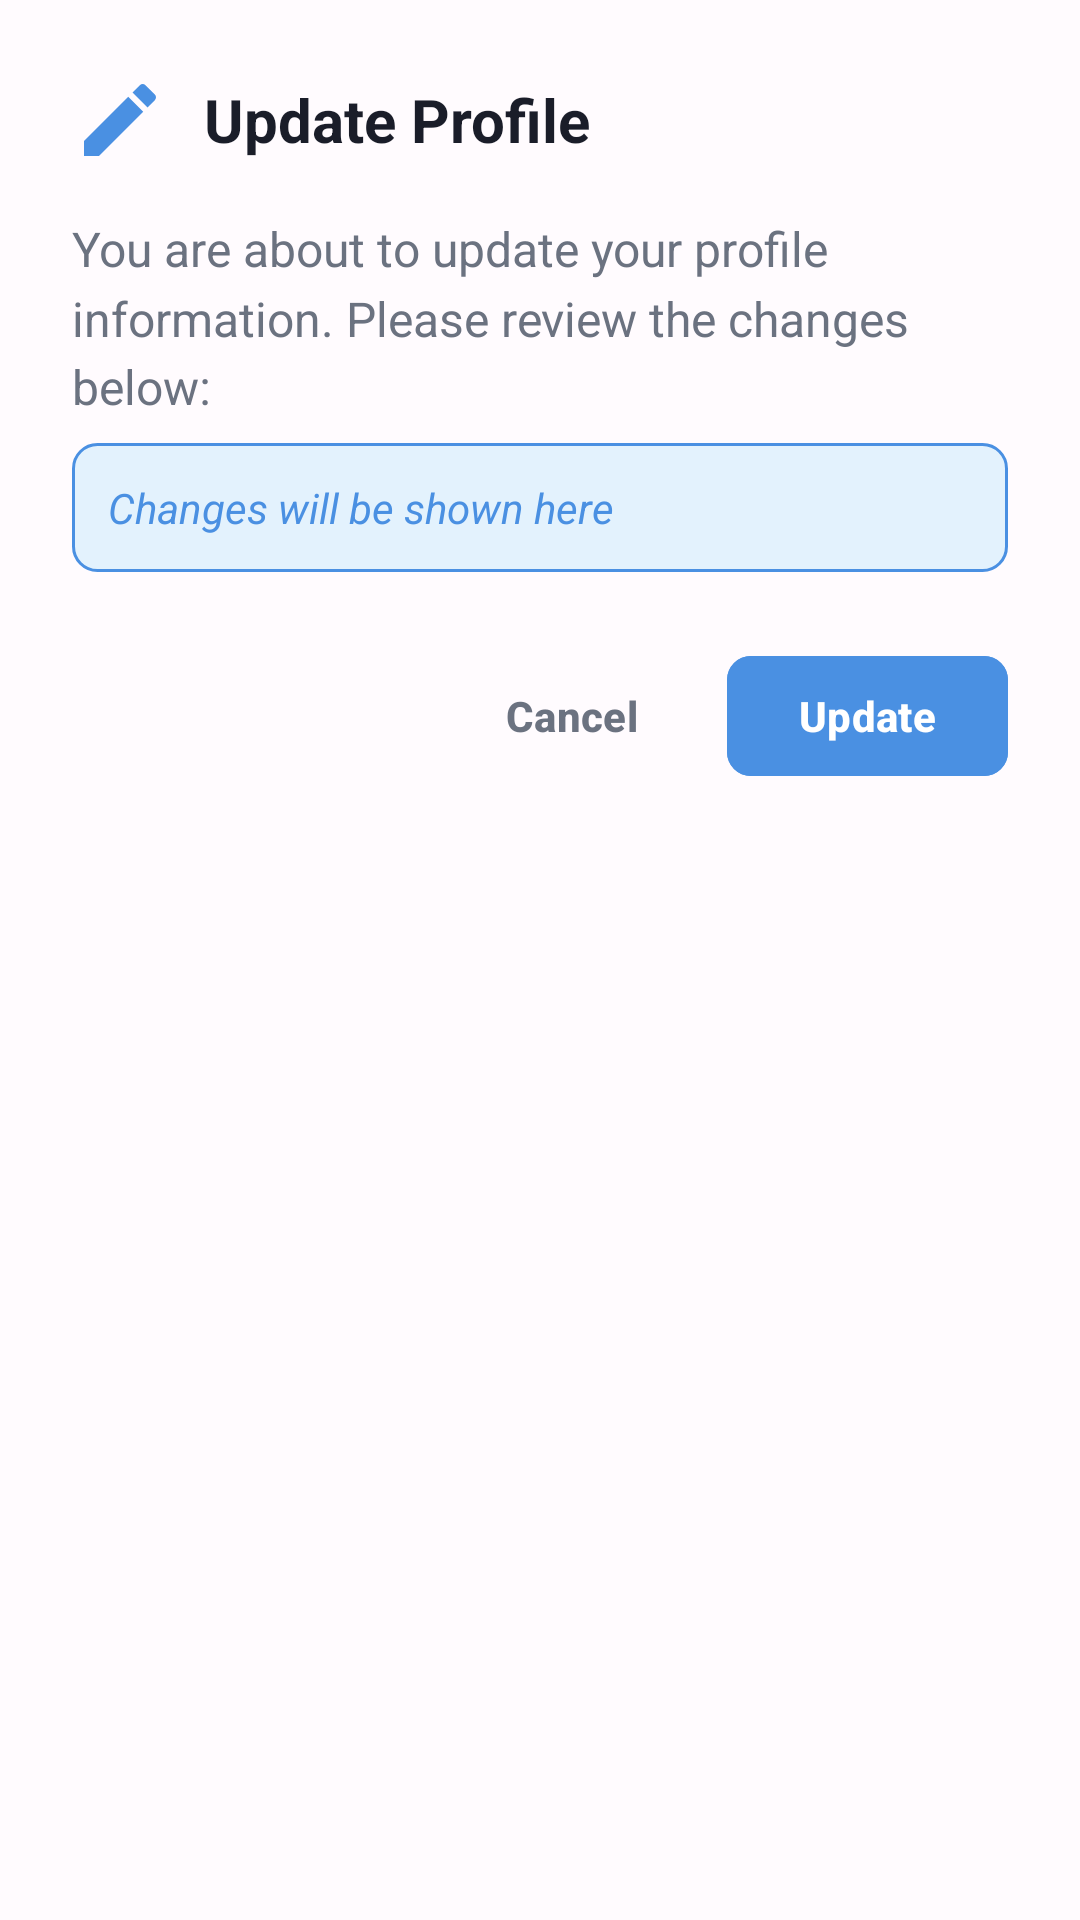

Named icons in this screenshot (1080 x 1920) and their centers, (x,y):
Edit Icon: (120,120)
